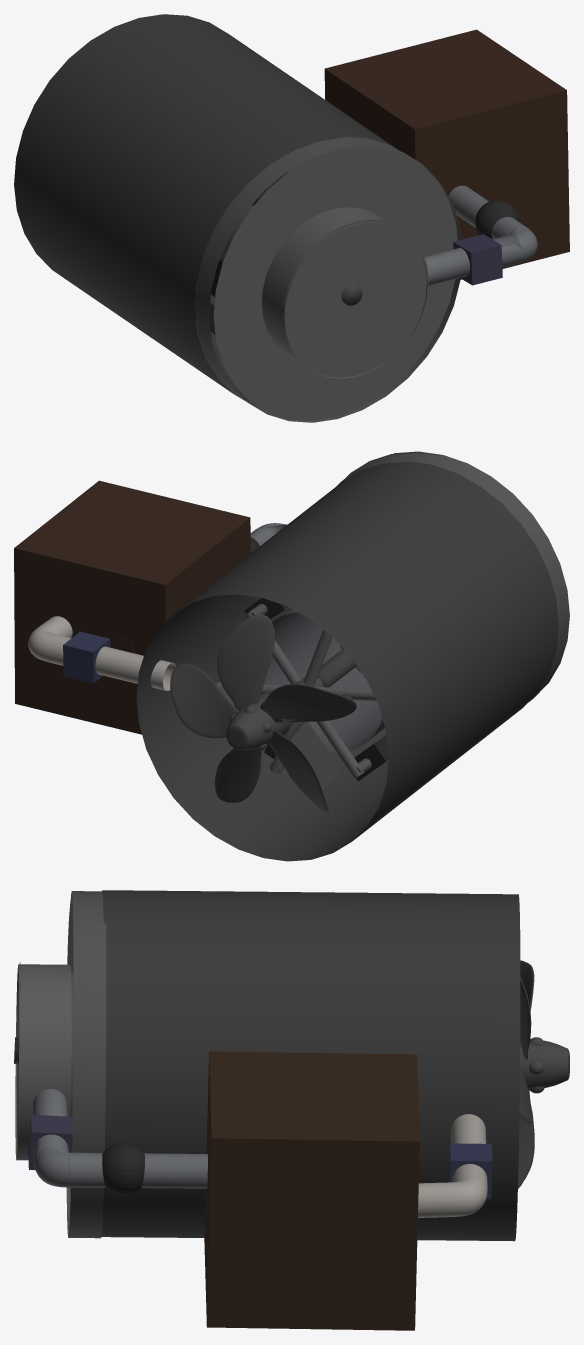
The picture shows the model from 3 angles, top to bottom: view 1: azimuth 30°, elevation 25°; view 2: azimuth 150°, elevation 25°; view 3: azimuth 270°, elevation 25°; orthographic projection. The views are drawn at different scales.
Visible parts, largest first — view 1: shell, tank bottom, water tank, circulation pipes, pump 2, sediment filter, magnets; view 2: shell, water tank, turbine, inner, tank bottom, magnets, circulation pipes, pump, axle; view 3: shell, water tank, tank bottom, circulation pipes, turbine, sediment filter, pump, pump 2.
Boxes of the visible parts, x1=… form: shell: x1=14, y1=14, x2=394, y2=405; tank bottom: x1=195, y1=136, x2=461, y2=422; water tank: x1=324, y1=29, x2=569, y2=279; circulation pipes: x1=424, y1=185, x2=537, y2=285; pump 2: x1=453, y1=234, x2=502, y2=285; sediment filter: x1=475, y1=200, x2=519, y2=239; magnets: x1=194, y1=171, x2=289, y2=334; shell: x1=136, y1=461, x2=558, y2=861; water tank: x1=14, y1=480, x2=250, y2=734; turbine: x1=170, y1=614, x2=356, y2=812; inner: x1=264, y1=608, x2=384, y2=753; tank bottom: x1=337, y1=451, x2=569, y2=702; magnets: x1=216, y1=598, x2=388, y2=781; circulation pipes: x1=28, y1=523, x2=286, y2=690; pump: x1=63, y1=631, x2=110, y2=683; axle: x1=318, y1=649, x2=356, y2=687; shell: x1=101, y1=890, x2=520, y2=1241; water tank: x1=204, y1=1051, x2=419, y2=1330; tank bottom: x1=15, y1=891, x2=106, y2=1238; circulation pipes: x1=32, y1=1089, x2=487, y2=1217; turbine: x1=518, y1=960, x2=569, y2=1188; sediment filter: x1=102, y1=1143, x2=145, y2=1194; pump: x1=449, y1=1143, x2=492, y2=1199; pump 2: x1=28, y1=1114, x2=72, y2=1170.
Size of the model in its own units: 3.33 by 2.04 by 3.2.
